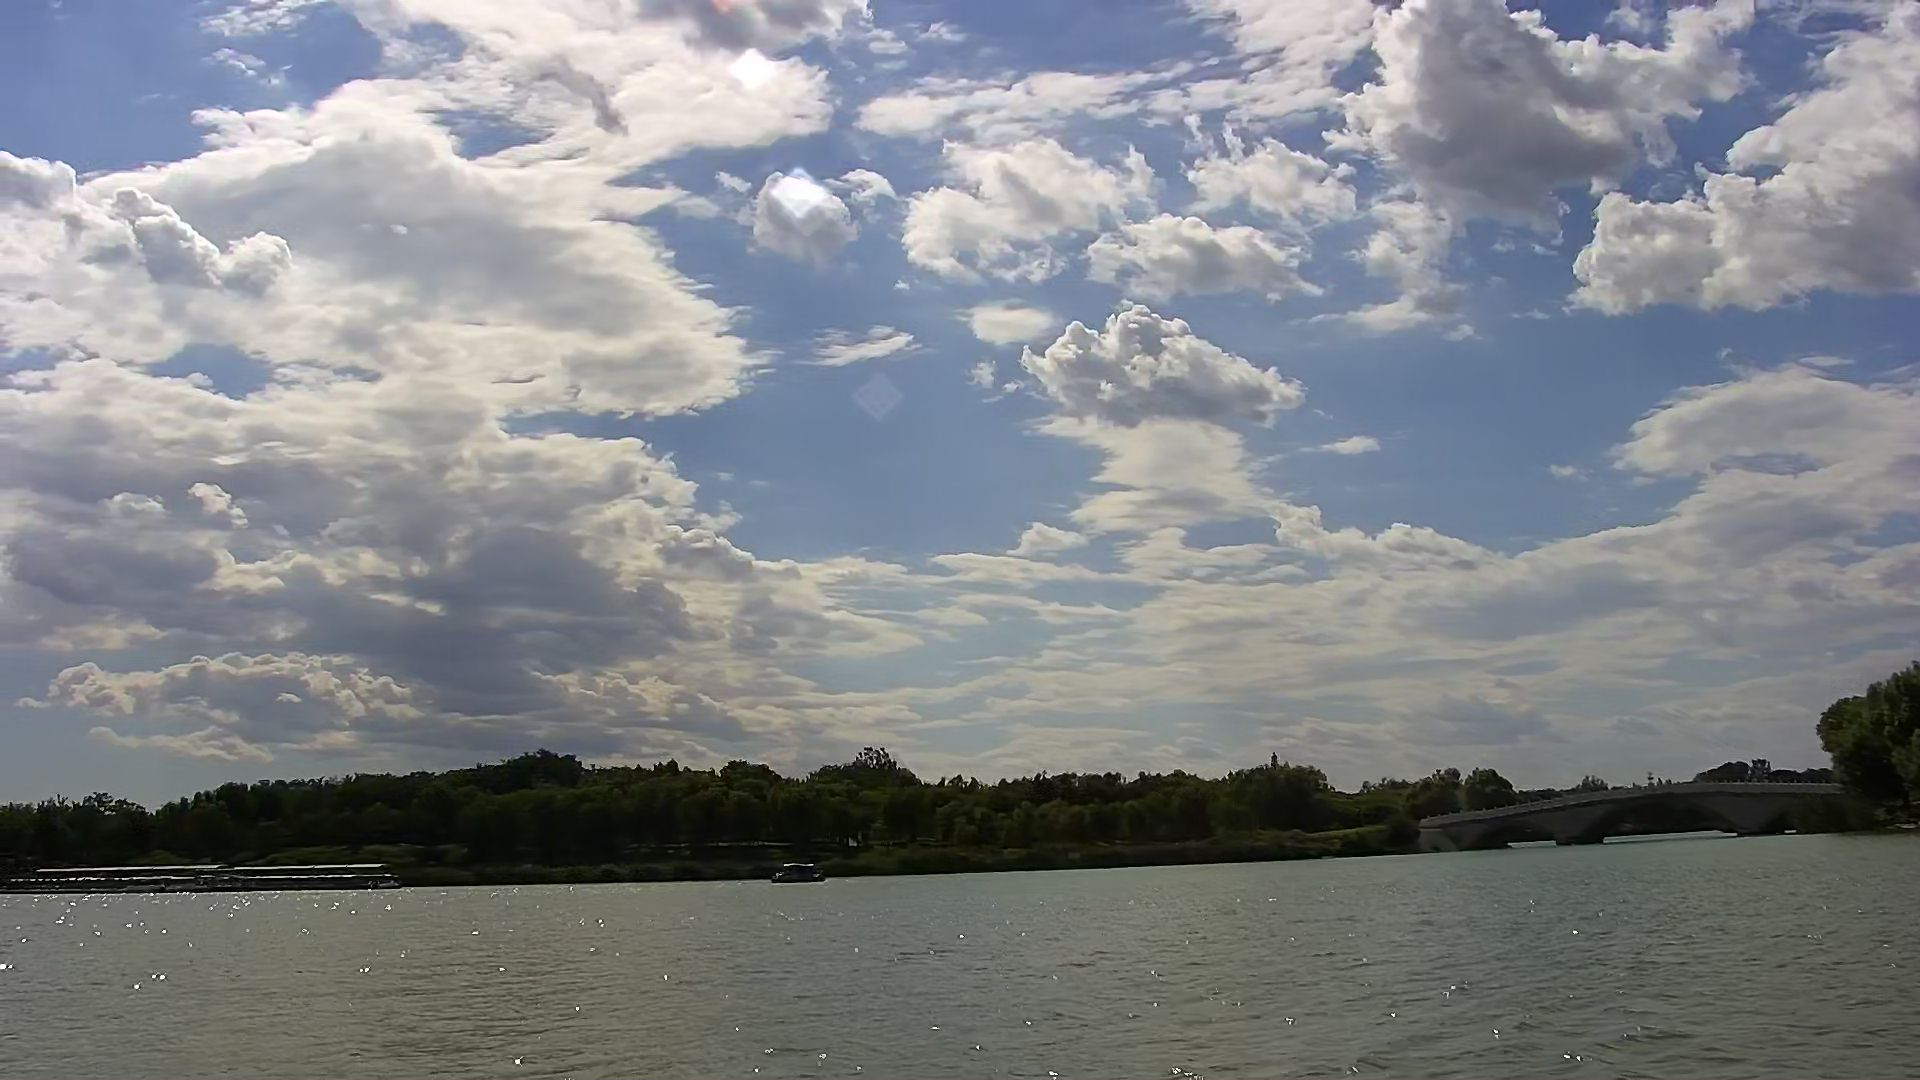boat: (770, 858, 820, 886)
bridge: (1423, 777, 1844, 851)
harbor: (16, 855, 393, 895)
